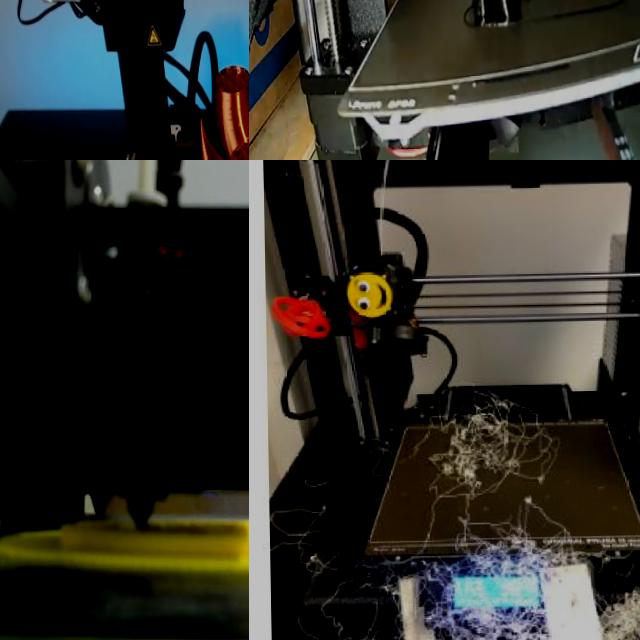spaghetti: (338, 363, 596, 532), (284, 538, 640, 640)
